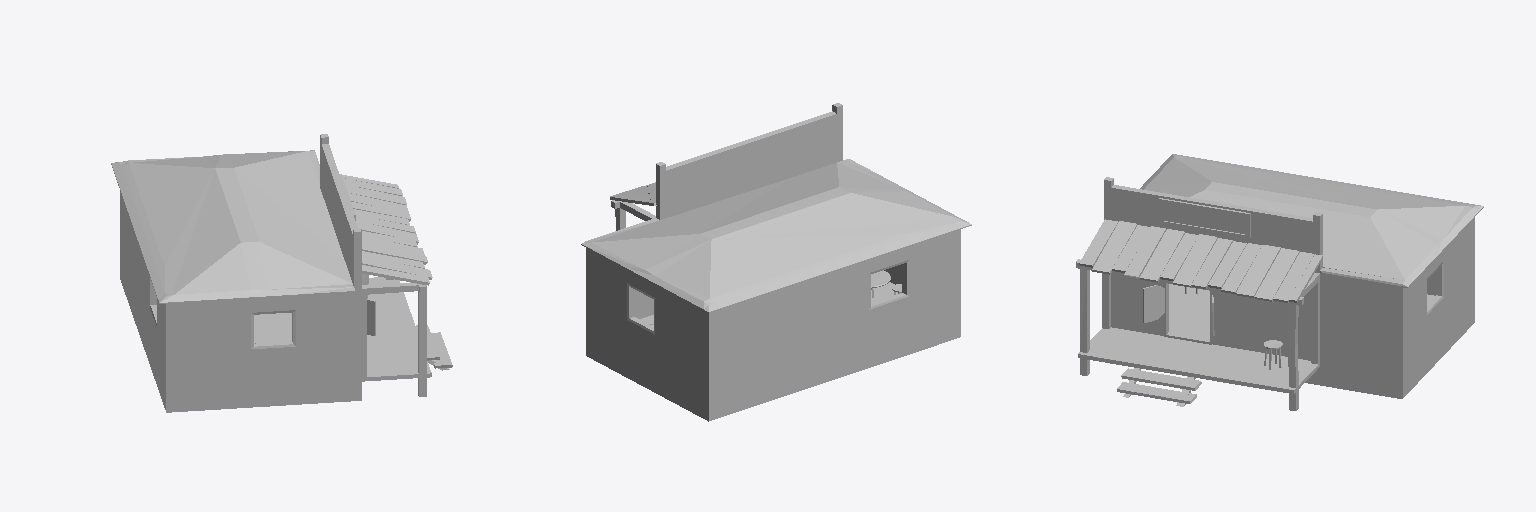
Rendered from saloon exterior-interior.obj.
3 views of the same model, side by side, from view 1: azimuth 30°, elevation 25°; view 2: azimuth 150°, elevation 25°; view 3: azimuth 270°, elevation 25° (orthographic).
Visible parts, largest first — view 1: Cube; view 2: Cube; view 3: Cube.
Part boxes in pixels (bbox=[...]): Cube: bbox=[111, 134, 452, 412]; Cube: bbox=[581, 103, 971, 421]; Cube: bbox=[1076, 154, 1483, 410].
Size of the model in its own units: 3.52 by 1.89 by 4.14.